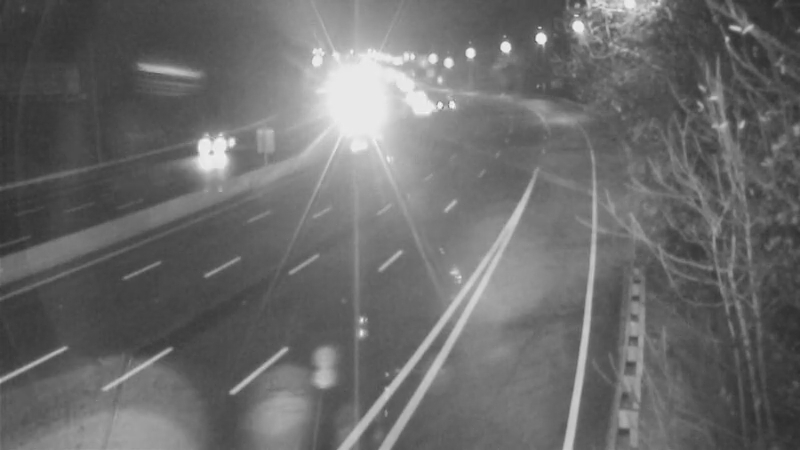vehicle: (388, 73, 438, 123), (423, 76, 473, 126), (401, 83, 451, 133), (190, 124, 240, 174)
